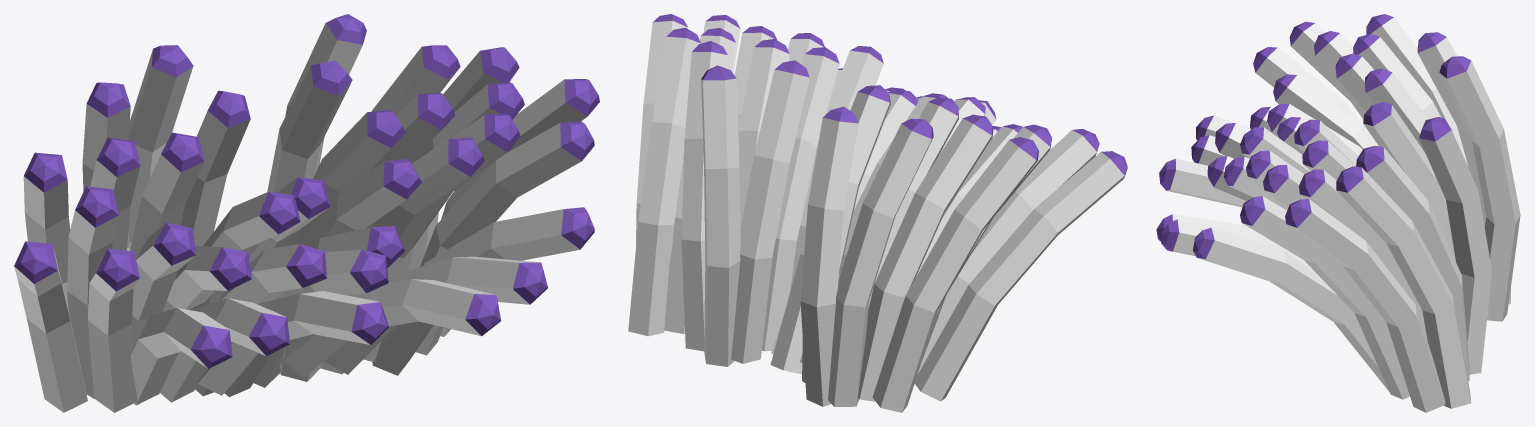
File: Coral-3.glb
The picture shows the model from 3 angles, left to right: view 1: azimuth 30°, elevation 25°; view 2: azimuth 150°, elevation 25°; view 3: azimuth 270°, elevation 25°; orthographic projection. The views are drawn at different scales.
Visible parts, largest first — view 1: Coral_031; view 2: Coral_031; view 3: Coral_031.
Part boxes in pixels (box(x1,y1,x2,y2)): Coral_031: box(14, 14, 599, 412); Coral_031: box(628, 14, 1127, 412); Coral_031: box(1156, 14, 1520, 412).
Size of what is drawn, in the model's own units: 0.9899 by 0.5627 by 0.6973.
1 material, 1 textured.
